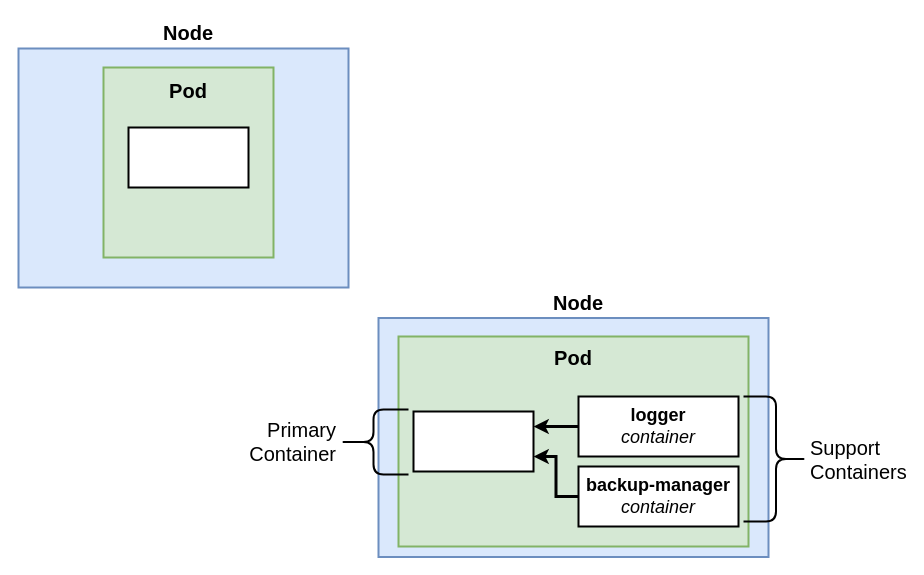
The diagram is 924 pixels wide and 575 high, and some of its shapes have lost their labels. Each missing label, with the centre of its shape:
nginx container: the point at 188,157
postgres container: the point at 473,441
